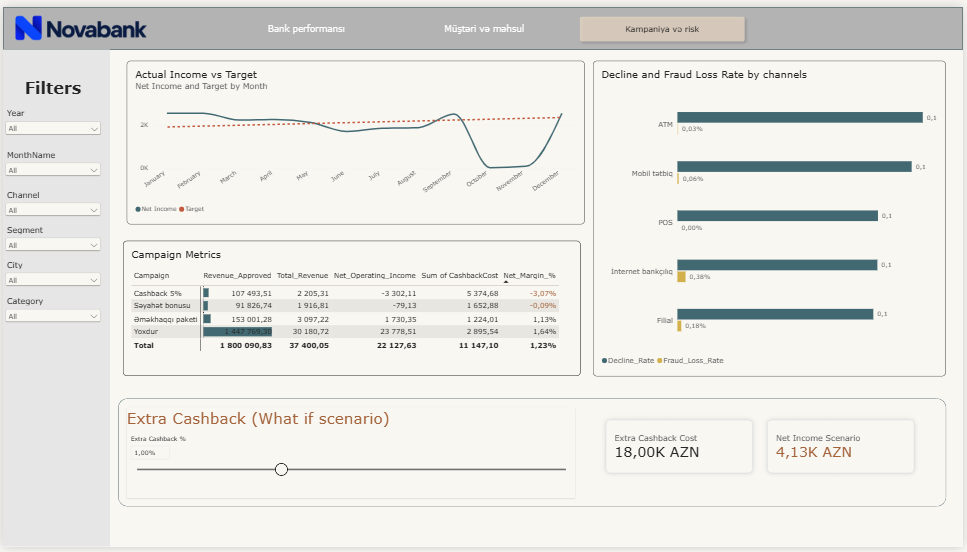

What the dashboard file says about the page in this screenshot:
{"tool":"powerbi","page":{"name":"Kampaniya və risk","canvas":[1920,1080],"ordinal":2},"visuals":[{"type":"shape","box":[229.8,783.6,1656.7,216.7],"z":0},{"type":"shape","box":[0,0,1920,86],"z":1000},{"type":"pageNavigator","box":[432,10,1062,68],"z":2000},{"type":"image","box":[0,0,312,84],"z":3000},{"type":"shape","box":[0,86,214,994],"z":4000},{"type":"slicer","fields":{"Values":["Calendar.Year"]},"box":[0,202,200.9,67],"z":5000},{"type":"slicer","fields":{"Values":["Calendar.MonthName"]},"box":[0,284,200,65.7],"z":6000},{"type":"slicer","fields":{"Values":["Customers.Segment"]},"box":[0,434,200,70],"z":7000},{"type":"slicer","fields":{"Values":["Transactions_2024_2025.Channel"]},"box":[0,364,200,70],"z":8000},{"type":"slicer","fields":{"Values":["Branches.City"]},"box":[0,506,200,70],"z":9000},{"type":"textbox","box":[0,142,200,44],"z":10000},{"type":"slicer","fields":{"Values":["Products.Category"]},"box":[0,576.7,200,70],"z":11000},{"type":"pivotTable","title":"Campaign Metrics","fields":{"Rows":["Transactions_2024_2025.Campaign"],"Values":["Metrics.Revenue_Approved","Metrics.Total_Revenue","Metrics.Net_Operating_Income","Sum(Transactions_2024_2025.CashbackCost)","Metrics.Net_Margin_%"]},"box":[238.9,468.7,915,270],"z":12000},{"type":"clusteredBarChart","title":"Decline and Fraud Loss Rate by channels","fields":{"Category":["Transactions_2024_2025.Channel"],"Y":["Metrics.Decline_Rate","Metrics.Fraud_Loss_Rate"]},"box":[1179.9,106.8,705.8,631.6],"z":13000},{"type":"lineChart","title":"Actual Income vs Target","fields":{"Category":["Targets.MonthStart.Variation.Date Hierarchy.Month"],"Y":["Metrics.Net_Operating_Income","Sum(Targets.NetIncomeTarget)"]},"box":[247.9,106.8,915.7,327.5],"z":14000},{"type":"cardVisual","fields":{"Data":["Metrics.Extra_Cashback_Cost","Metrics.Net_Operating_Income_Scenario"]},"box":[1194.4,816.2,638,128],"z":15000},{"type":"slicer","title":"Extra Cashback (What if scenario)","fields":{"Values":["Extra Cashback %.Extra Cashback %"]},"box":[247.9,801.7,896.7,180],"z":16000}]}

Visuals, with their boxes in screenshot pixels (x1, y1, x2, y2), scaled from the page's 1920x1080 canvas onto the 967x552 screenshot:
shape: <box>116,401,950,511</box>
shape: <box>0,0,966,44</box>
pageNavigator: <box>218,5,752,40</box>
image: <box>0,0,157,43</box>
shape: <box>0,44,108,551</box>
slicer - Calendar.Year: <box>0,103,101,137</box>
slicer - Calendar.MonthName: <box>0,145,101,179</box>
slicer - Customers.Segment: <box>0,222,101,258</box>
slicer - Transactions_2024_2025.Channel: <box>0,186,101,222</box>
slicer - Branches.City: <box>0,259,101,294</box>
textbox: <box>0,73,101,95</box>
slicer - Products.Category: <box>0,295,101,331</box>
"Campaign Metrics" pivotTable: <box>120,240,581,378</box>
"Decline and Fraud Loss Rate by channels" clusteredBarChart: <box>594,55,950,377</box>
"Actual Income vs Target" lineChart: <box>125,55,586,222</box>
cardVisual - Metrics.Extra_Cashback_Cost x Metrics.Net_Operating_Income_Scenario: <box>602,417,923,483</box>
"Extra Cashback (What if scenario)" slicer: <box>125,410,576,502</box>
